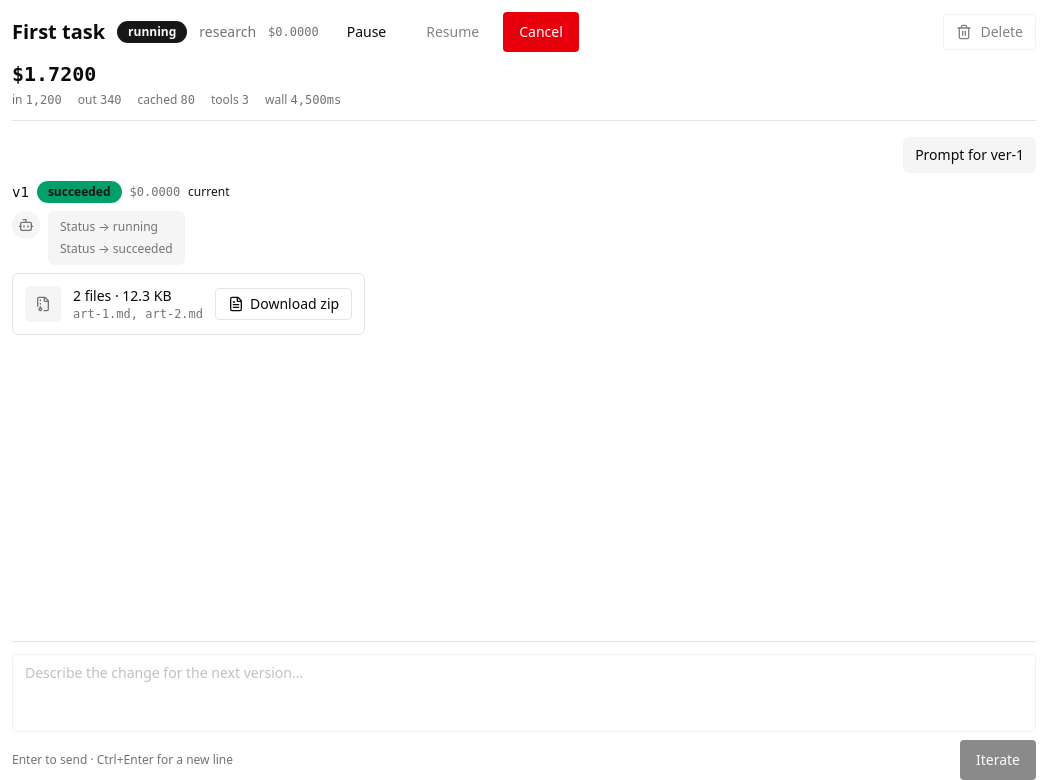
it: TaskDetail › re-derives the bar to all-disabled after the task settles to a terminal status
This screenshot has width=1048, height=780.
Click the button with test id "control-cancel".
click(541, 32)  # box left=503, top=12, right=579, bottom=52
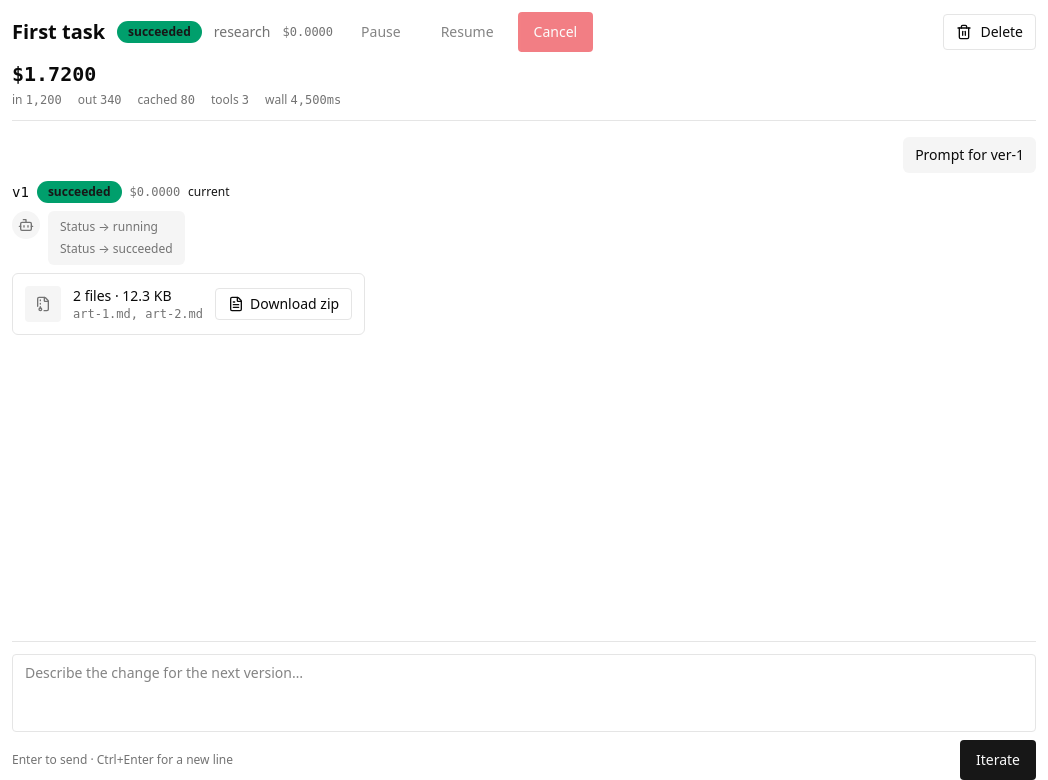
Expected: the button with test id "control-resume" is disabled, left=425, top=12, right=510, bottom=52
Expected: the button with test id "control-cancel" is disabled, left=518, top=12, right=593, bottom=52
Expected: the button with test id "control-pause" is disabled, left=345, top=12, right=417, bottom=52
